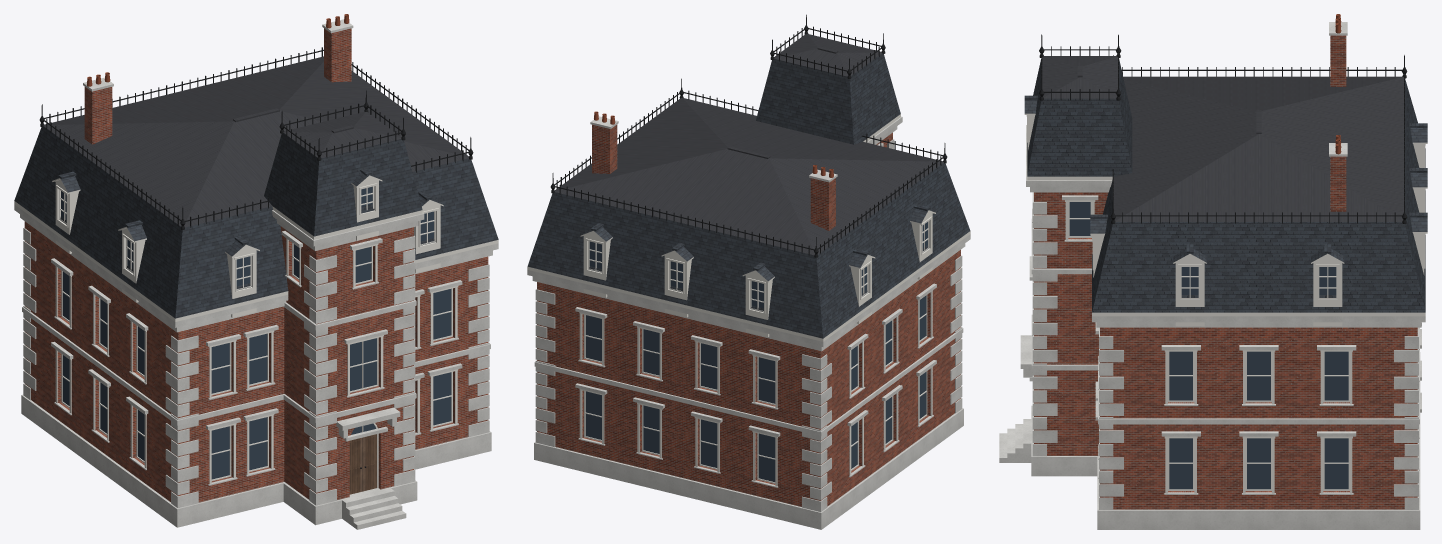
Rendered from second-empire-mansion.glb.
3 renders of one model, left to right at view 1: azimuth 30°, elevation 25°; view 2: azimuth 150°, elevation 25°; view 3: azimuth 270°, elevation 25°, orthographic. The views are drawn at different scales.
Visible parts, largest first — view 1: Second_Empire_Mansion; view 2: Second_Empire_Mansion; view 3: Second_Empire_Mansion.
Part boxes in pixels (x1,y1,x2,y2): Second_Empire_Mansion: (14, 14, 498, 529); Second_Empire_Mansion: (527, 14, 970, 529); Second_Empire_Mansion: (999, 14, 1427, 529).
Size of the model in its own units: 14.74 by 16.47 by 16.17.
Materials: 12 (6 with a texture image).
